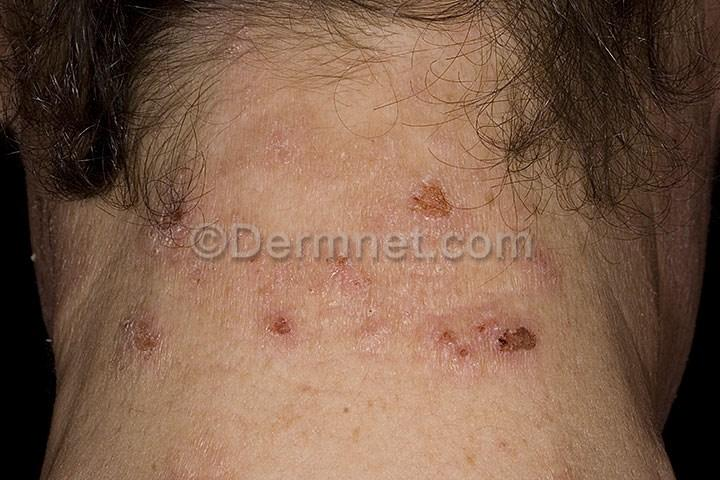Eczema: (299, 240, 406, 363), (387, 283, 494, 385), (101, 170, 205, 264), (193, 194, 289, 290), (331, 114, 419, 207), (410, 162, 491, 258), (237, 102, 317, 189), (101, 296, 185, 372), (498, 225, 582, 296), (487, 309, 563, 376), (241, 284, 313, 344), (355, 195, 418, 259)
